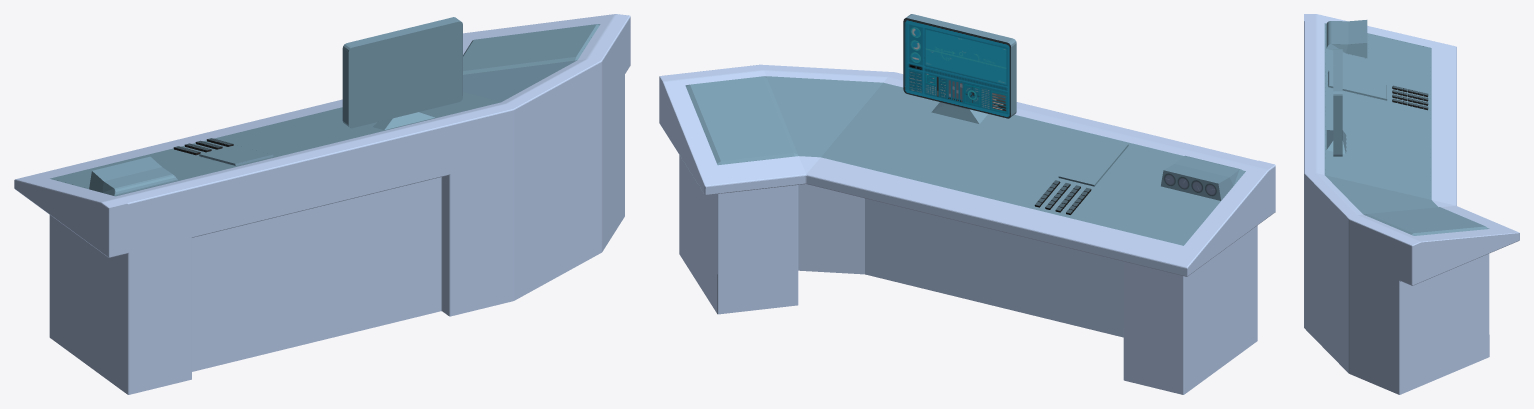
The model's file is SSCControlDesk1.fbx.
The picture shows the model from 3 angles, left to right: view 1: azimuth 30°, elevation 25°; view 2: azimuth 150°, elevation 25°; view 3: azimuth 270°, elevation 25°; orthographic projection. The views are drawn at different scales.
Visible parts, largest first — view 1: SSCControlDesk1_Base_LOD0, SSCControlDesk1_Detail_LOD0; view 2: SSCControlDesk1_Base_LOD0, SSCControlDesk1_Detail_LOD0; view 3: SSCControlDesk1_Base_LOD0, SSCControlDesk1_Detail_LOD0.
Boxes of the visible parts, x1,y1,x2,y2 form: SSCControlDesk1_Base_LOD0: (14,14,630,394); SSCControlDesk1_Detail_LOD0: (50,17,600,196); SSCControlDesk1_Base_LOD0: (659,64,1275,394); SSCControlDesk1_Detail_LOD0: (685,14,1245,245); SSCControlDesk1_Base_LOD0: (1304,14,1519,394); SSCControlDesk1_Detail_LOD0: (1324,20,1489,235).
Size of what is drawn, in the model's own units: 305 by 136 by 120.
